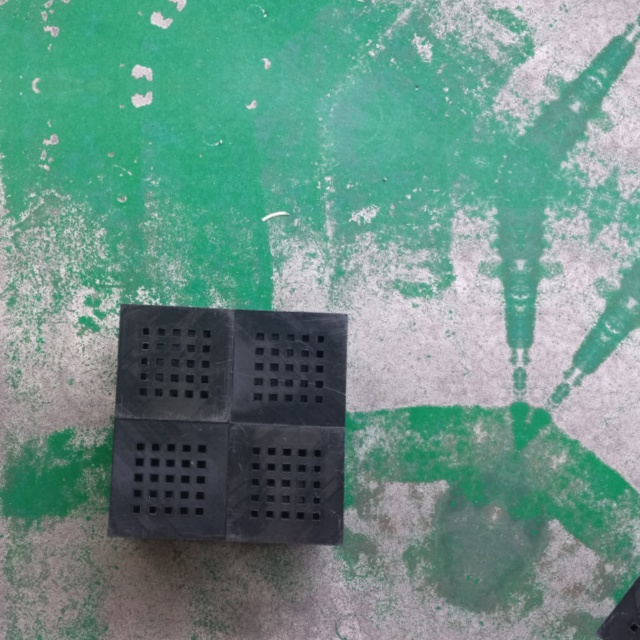pallet: (103, 299, 351, 550)
